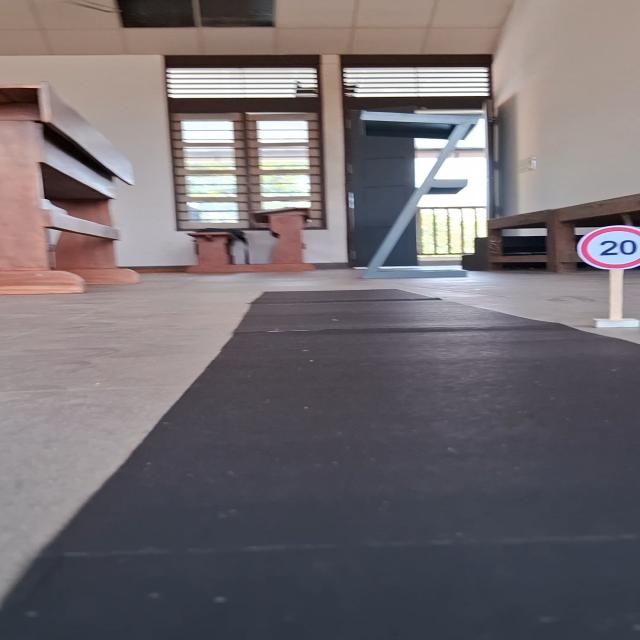Speed20: (572, 223, 640, 274)
